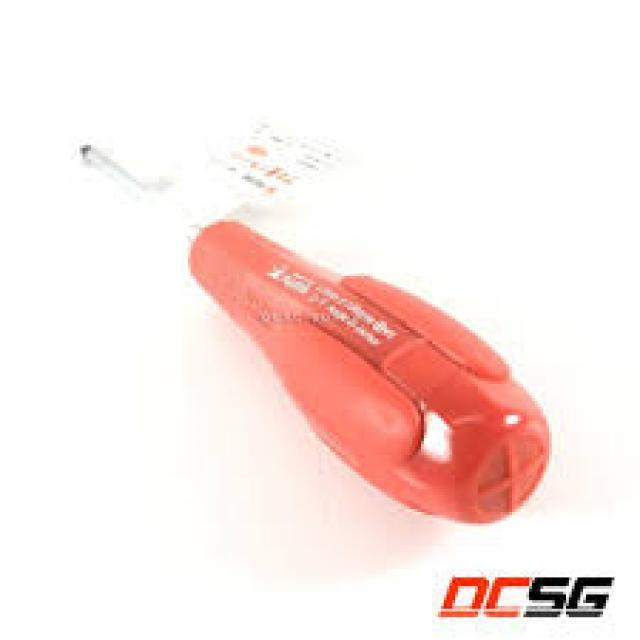screwdriver: (74, 137, 552, 534)
